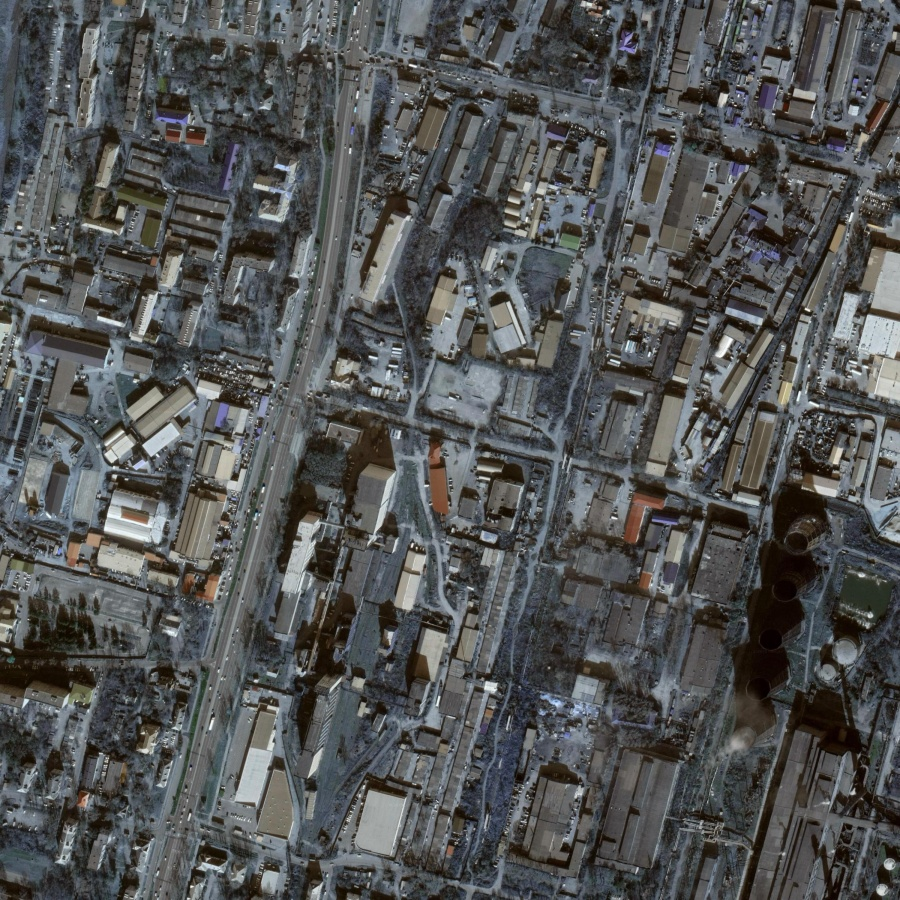PowerPlant: (700, 466, 870, 805)
